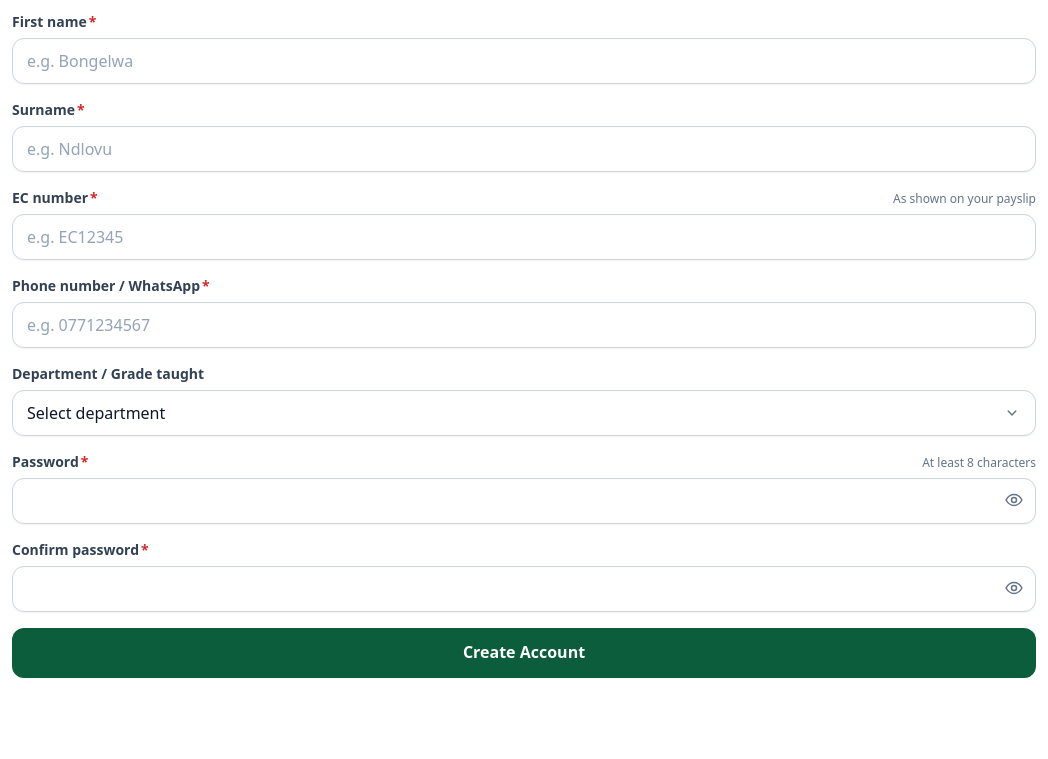
Test: SignupForm › warns when the passwords do not match
Step 1. Type "password1" into the password field labelled "Password*" → (524, 501), box [12,478,1036,524]
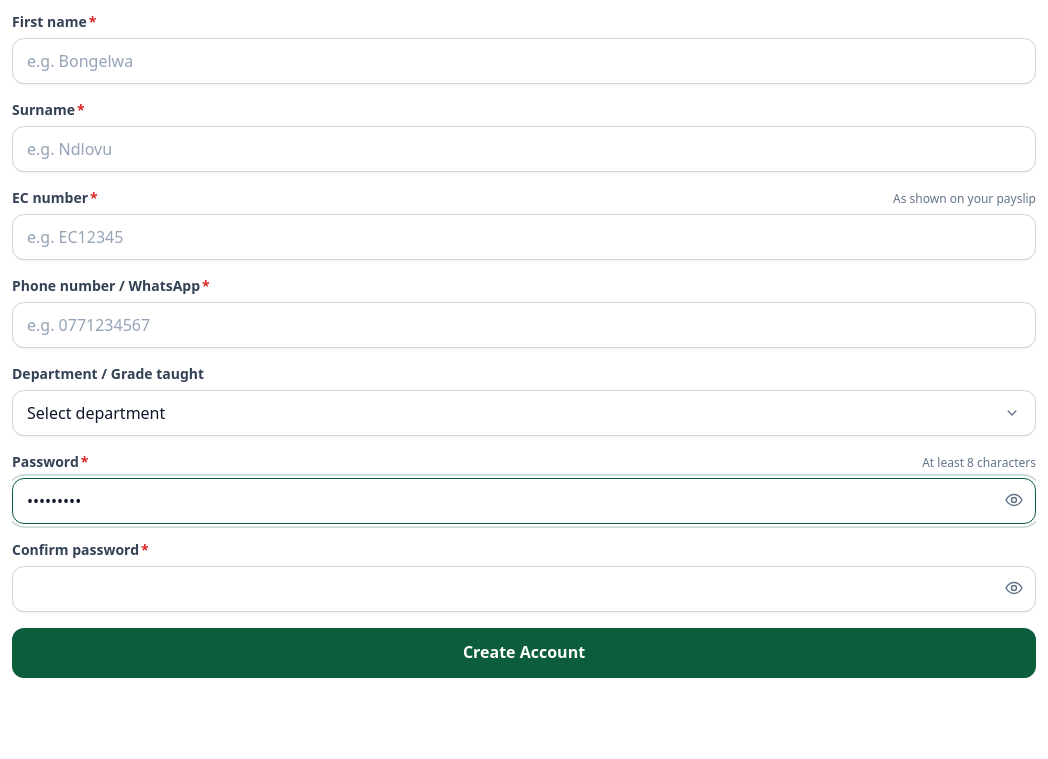
Step 2. Type "password2" into the password field labelled "Confirm password*" → (524, 589), box [12,566,1036,612]
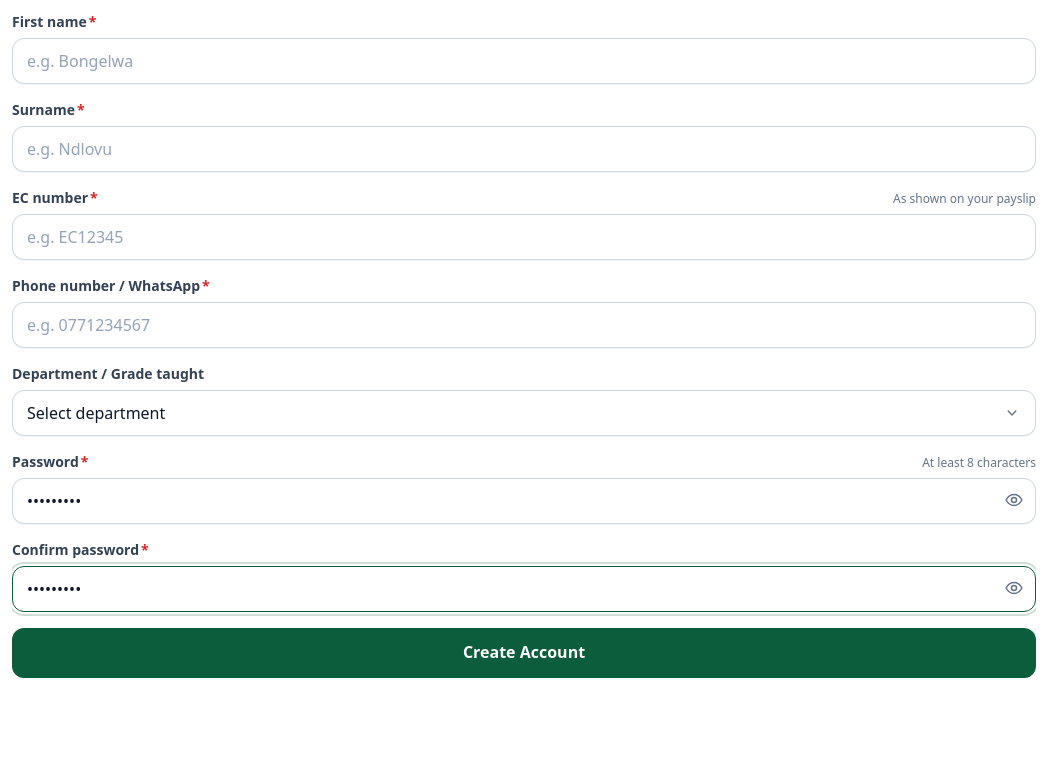
Step 3. Click the button "Create Account" → (524, 653), box [12,628,1036,678]
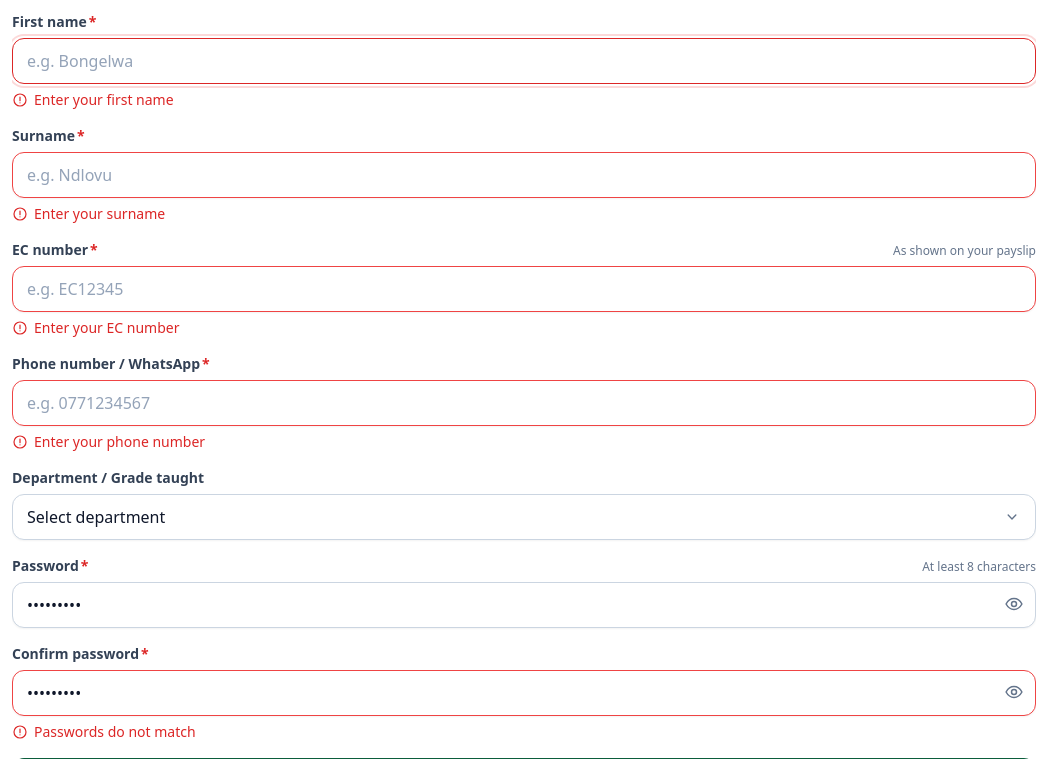
Now the text "Passwords do not match" is shown, box [34,722,196,742]
